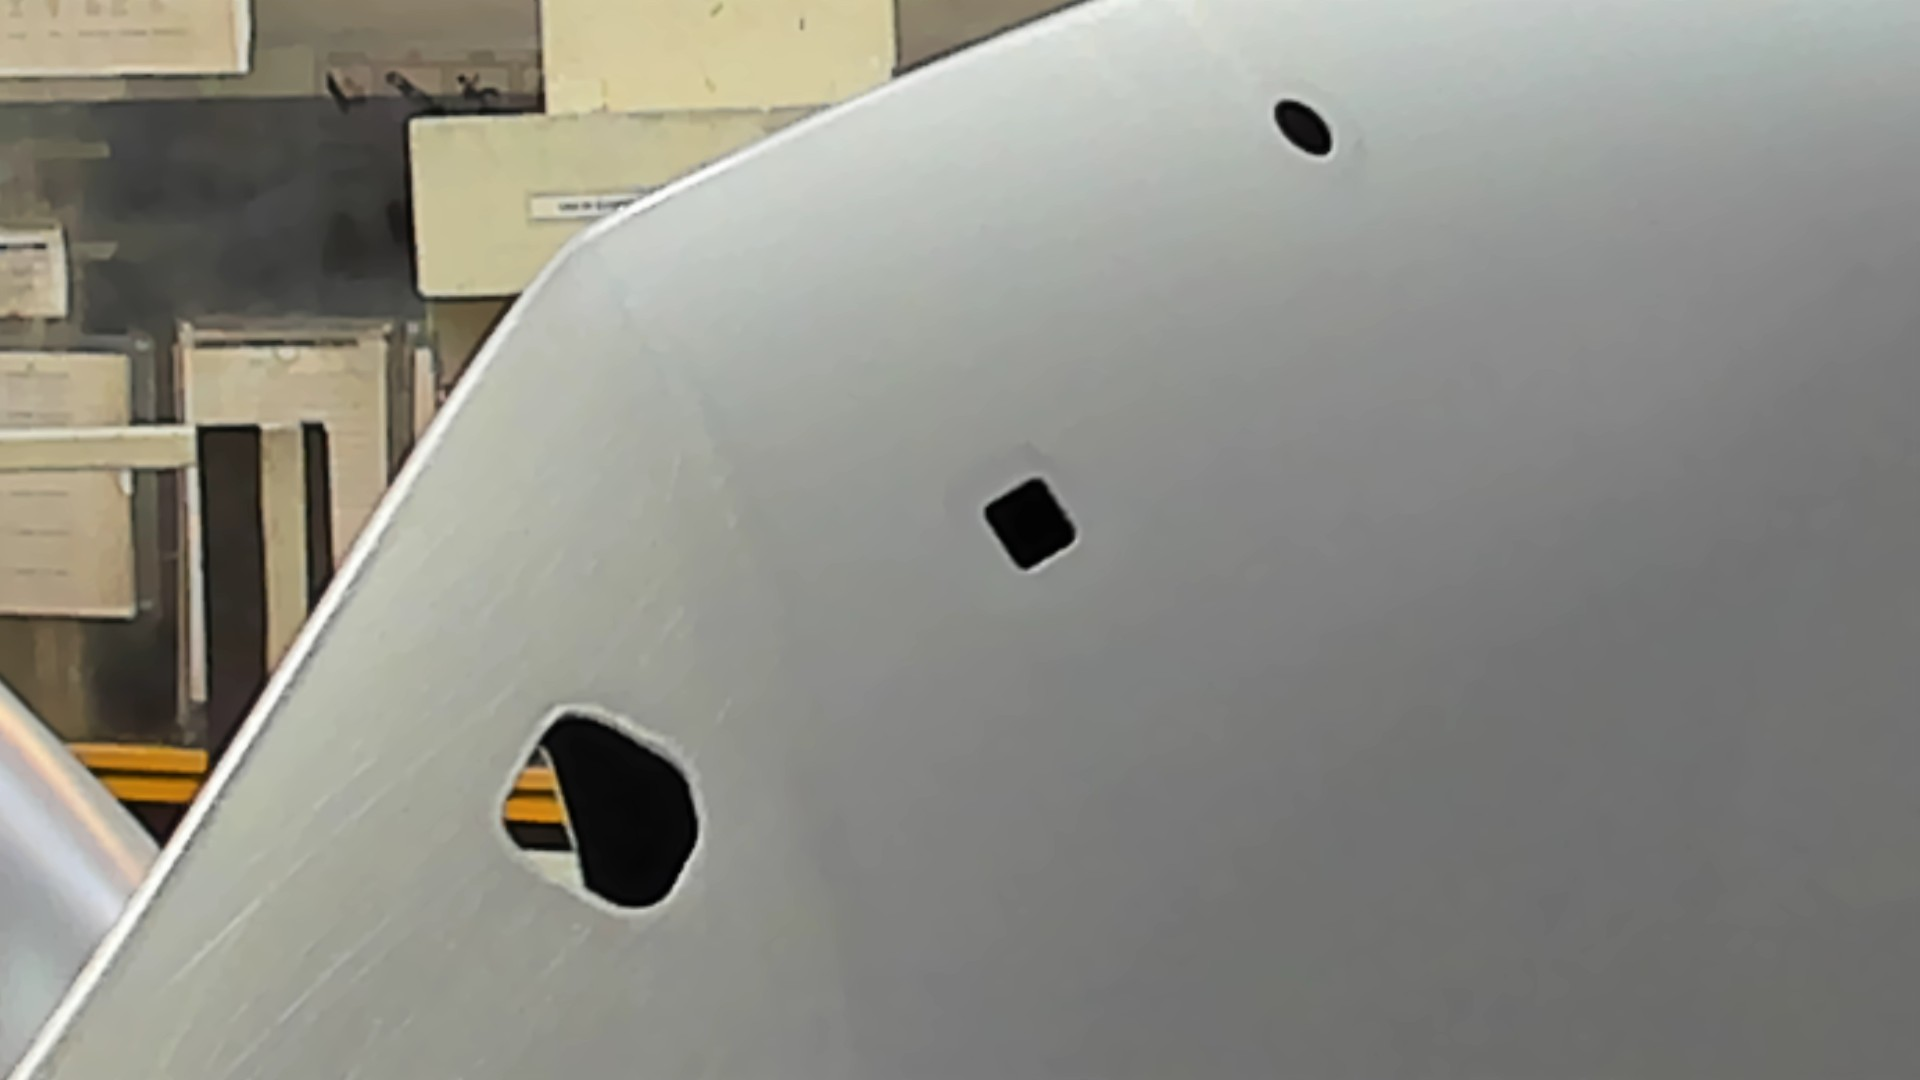chico: (1269, 94, 1338, 164)
grande: (493, 703, 709, 919)
mediano: (971, 468, 1087, 582)
